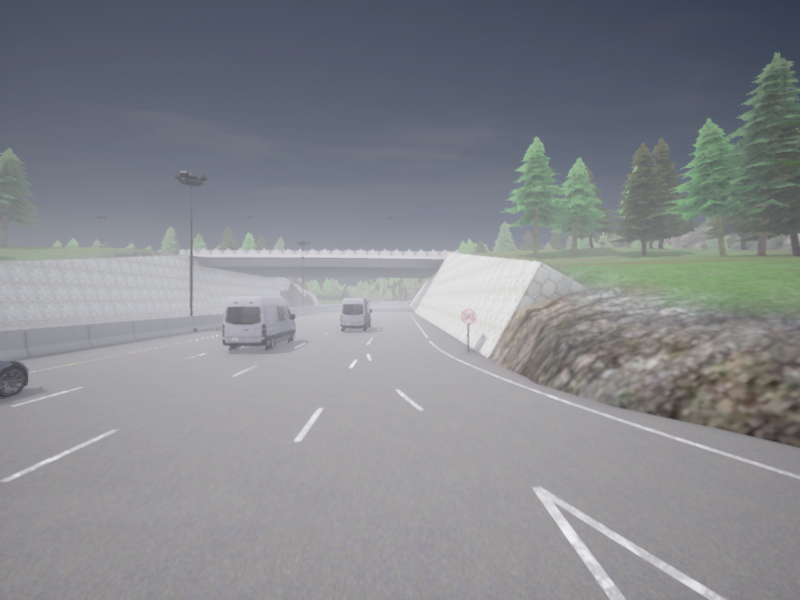vehicle: (222, 297, 295, 350), (0, 360, 28, 397), (340, 298, 372, 330)
